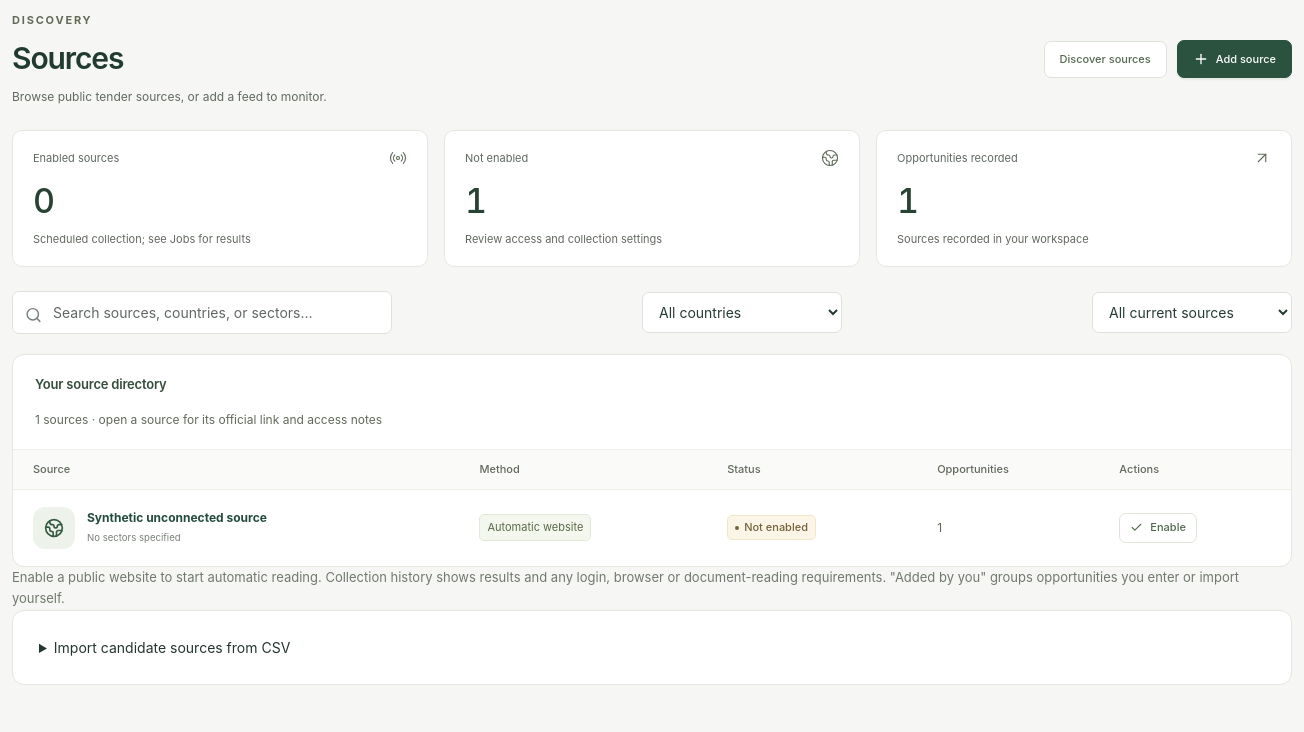
connected screens › opens source setup, saves a chosen feed and enables the reloaded source
This screenshot has width=1304, height=732.
Step 1. Click the link "Synthetic unconnected source" → (177, 518), box [87,510,267,525]
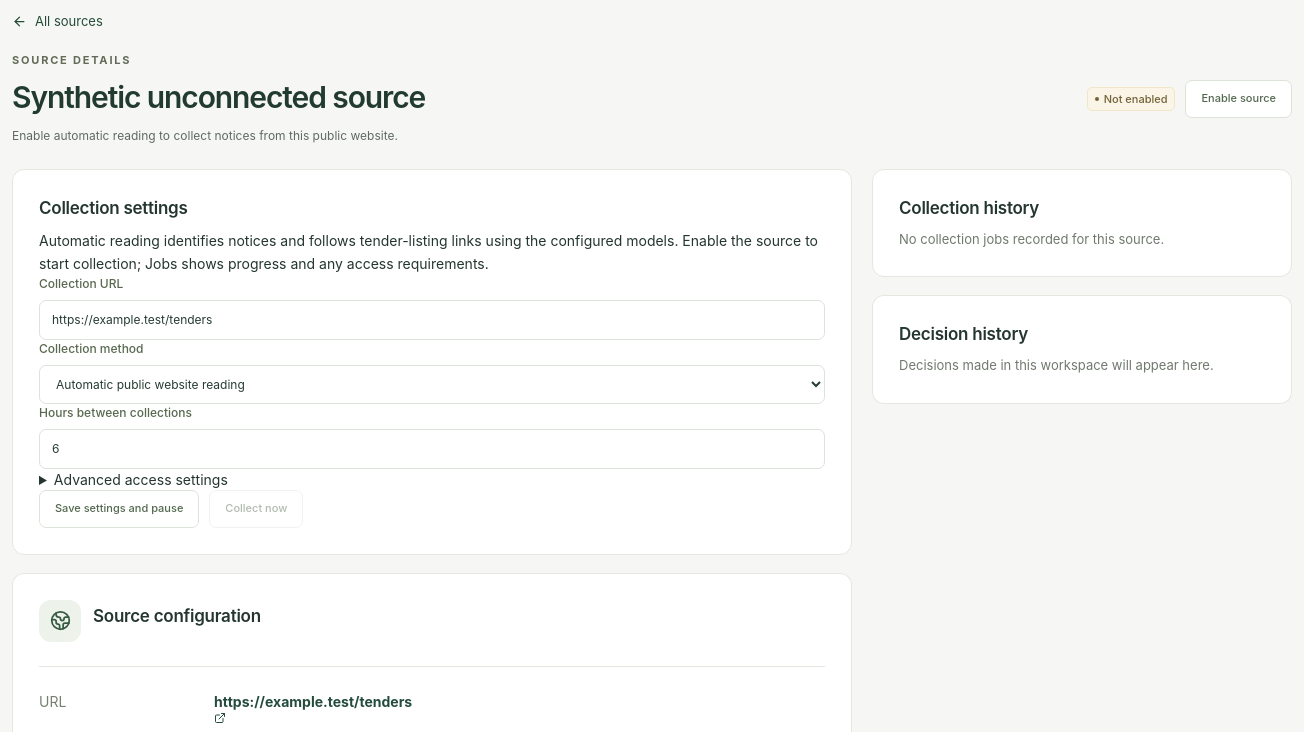
Expected: the heading "Synthetic unconnected source" is shown, [12,78,425,117]
Step 2. Select "RSS / Atom" in the dropdown labelled "Collection method" → (432, 385), box [39,365,825,404]
Step 3. Click the heading "Advanced access settings" → (141, 480), box [54,471,228,488]
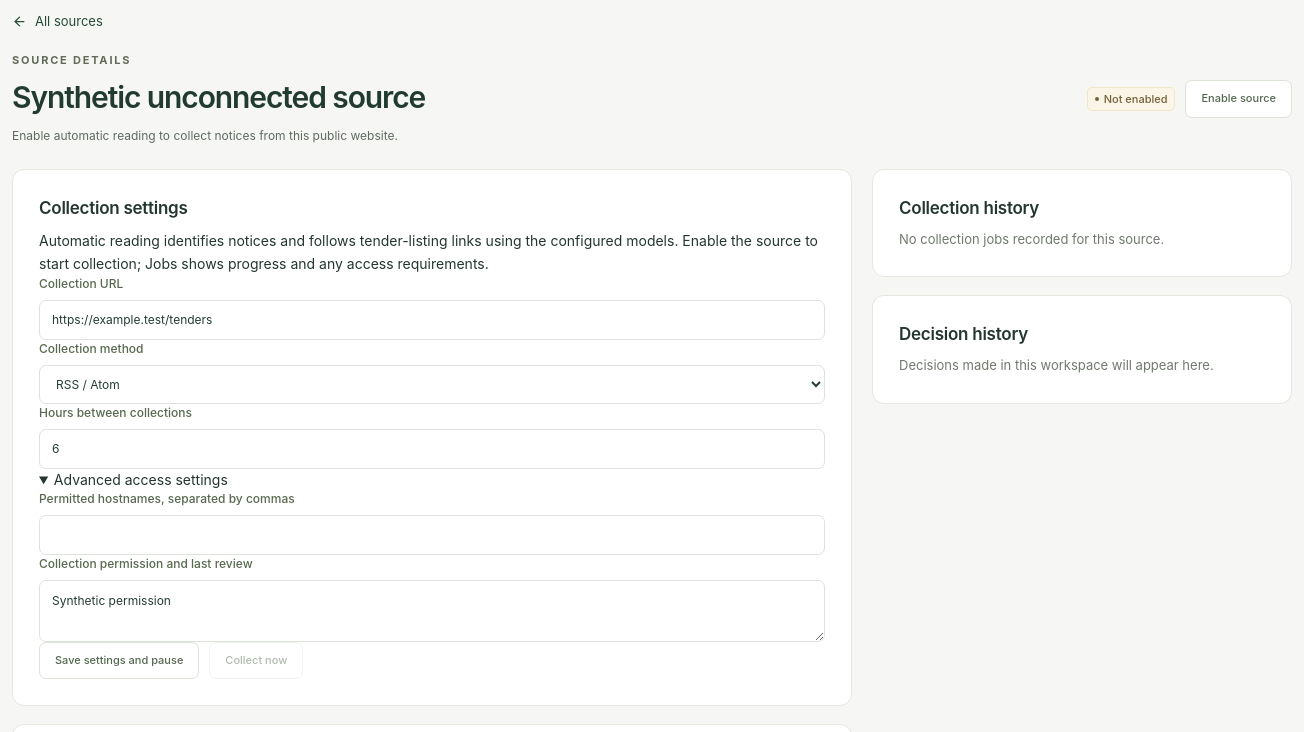
Step 4. Replace the text in the field labelled "Collection URL" with "https://example.test/rss" → (432, 320), box [39,300,825,340]
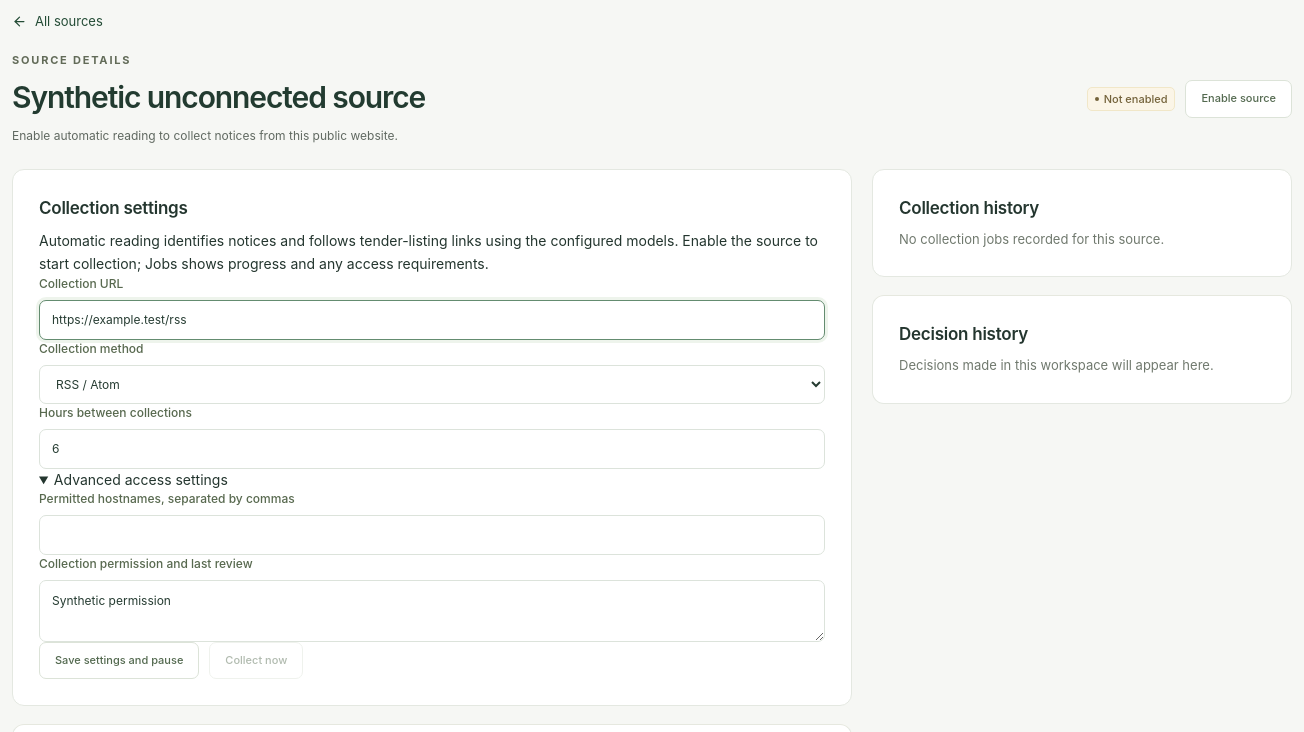
Step 5. Type "example.test" into the field labelled "Permitted hostnames, separated by commas" → (432, 535), box [39,515,825,555]
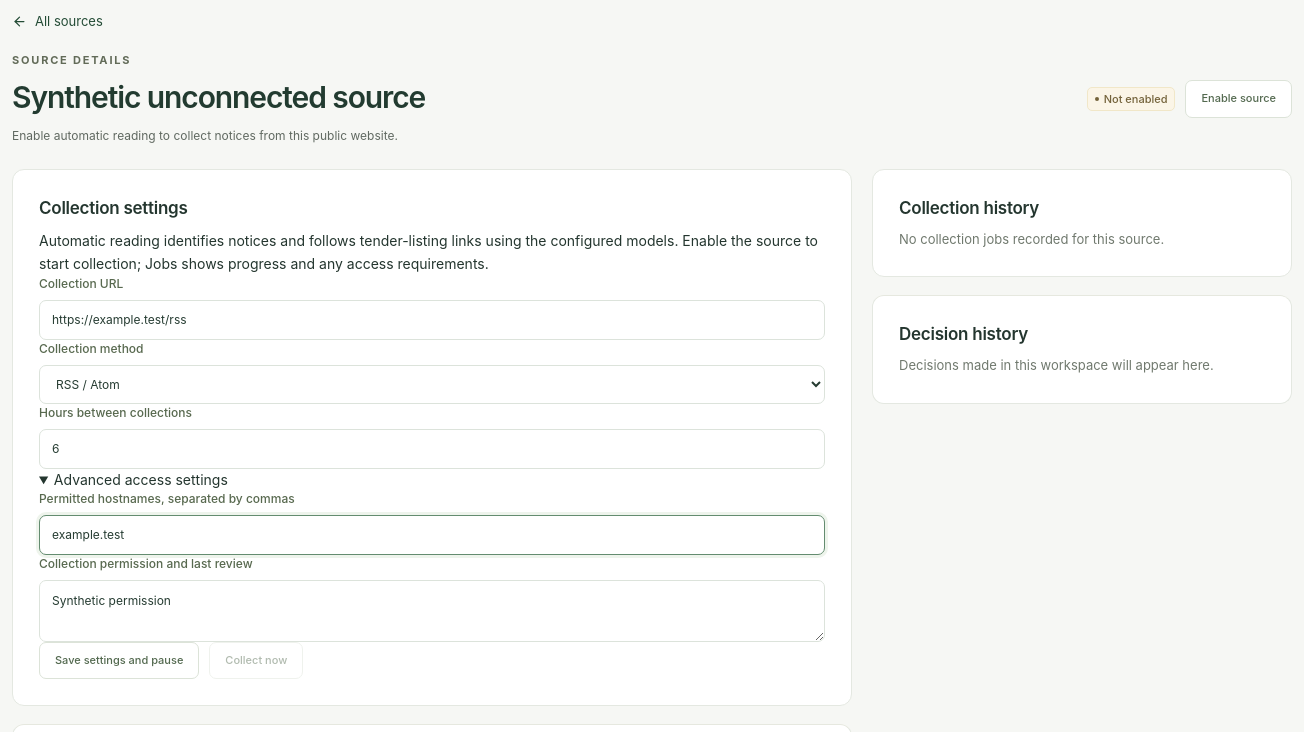
Step 6. Click the button "Save settings and pause" → (119, 660), box [39,642,199,679]
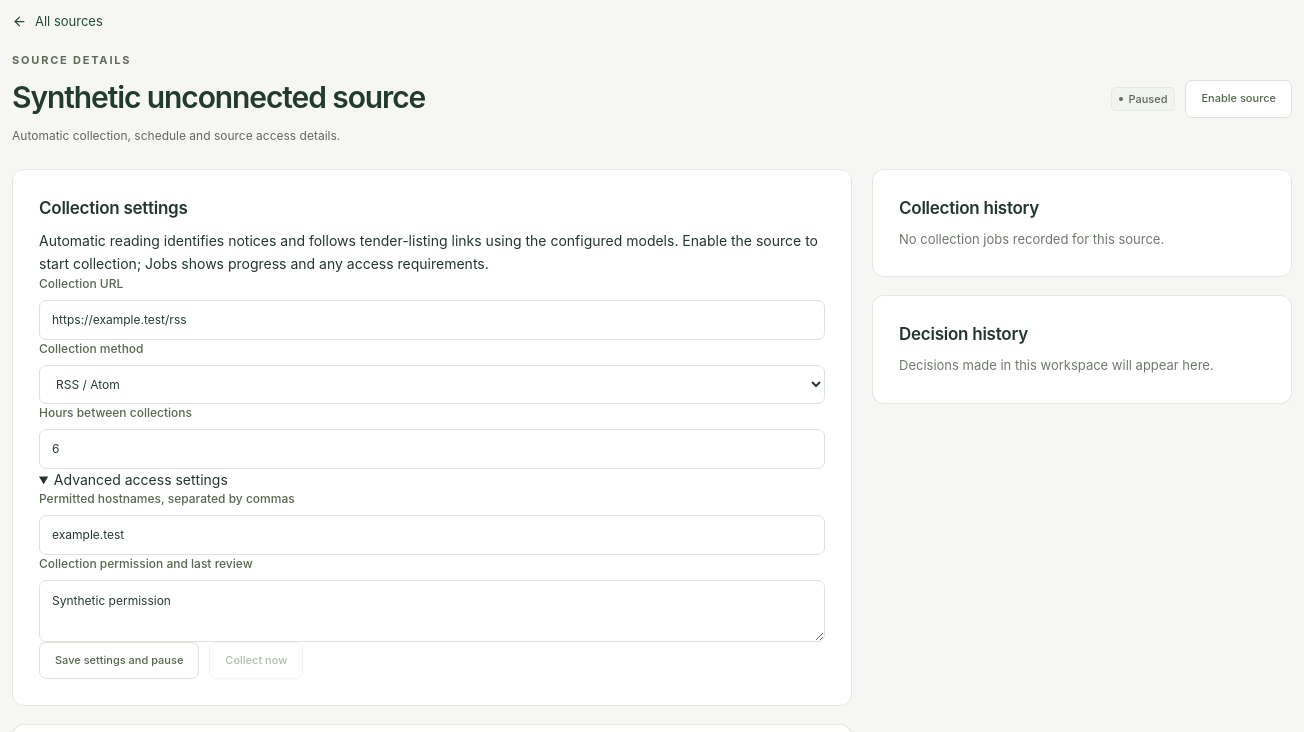
Expected: the text "Paused" is shown, [1111,87,1176,111]
Step 7. Click the button "Enable source" → (1239, 99), box [1186,80,1292,118]
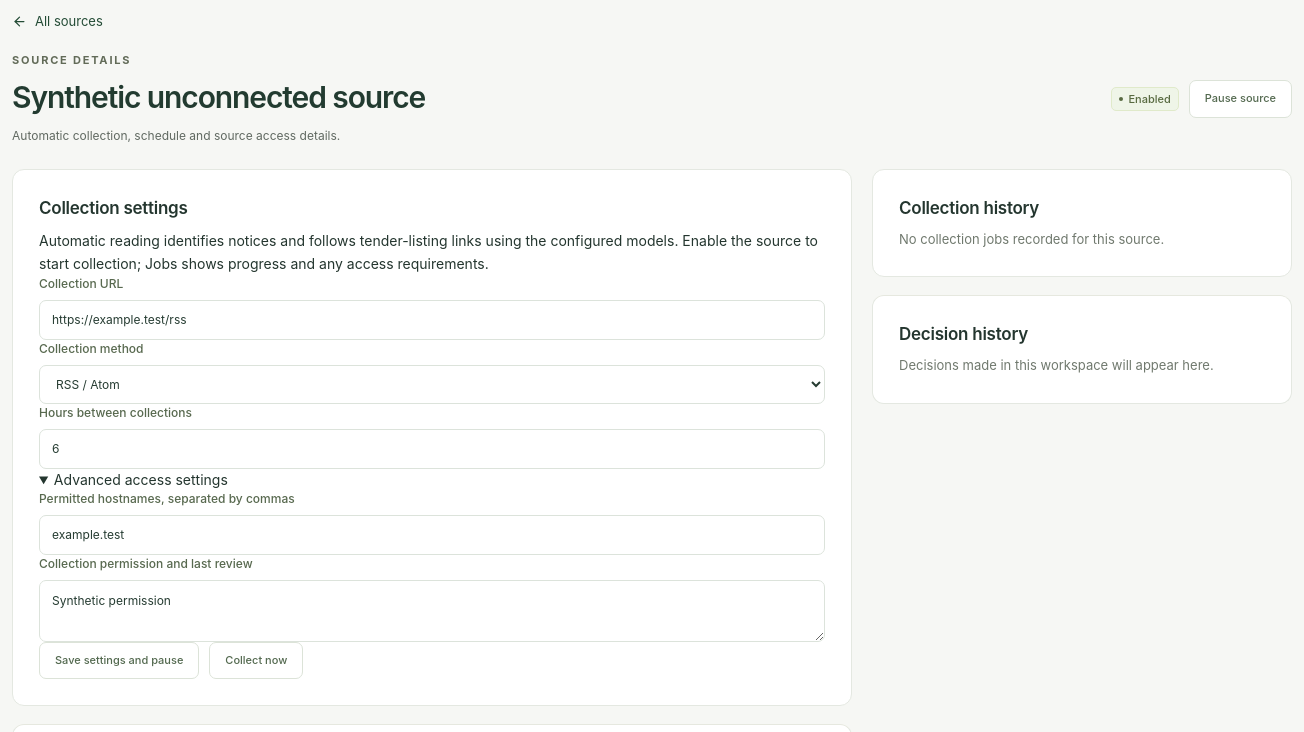
Expected: the button "Pause source" is shown, [1189,80,1292,118]
